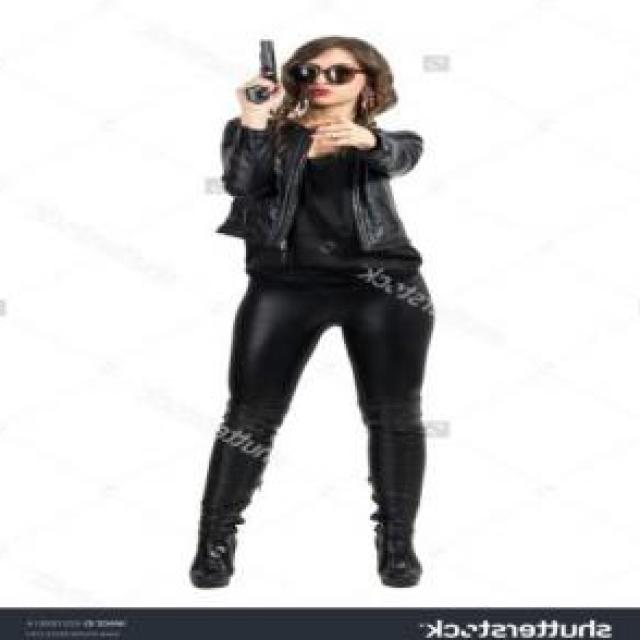pistol: (239, 37, 281, 103)
